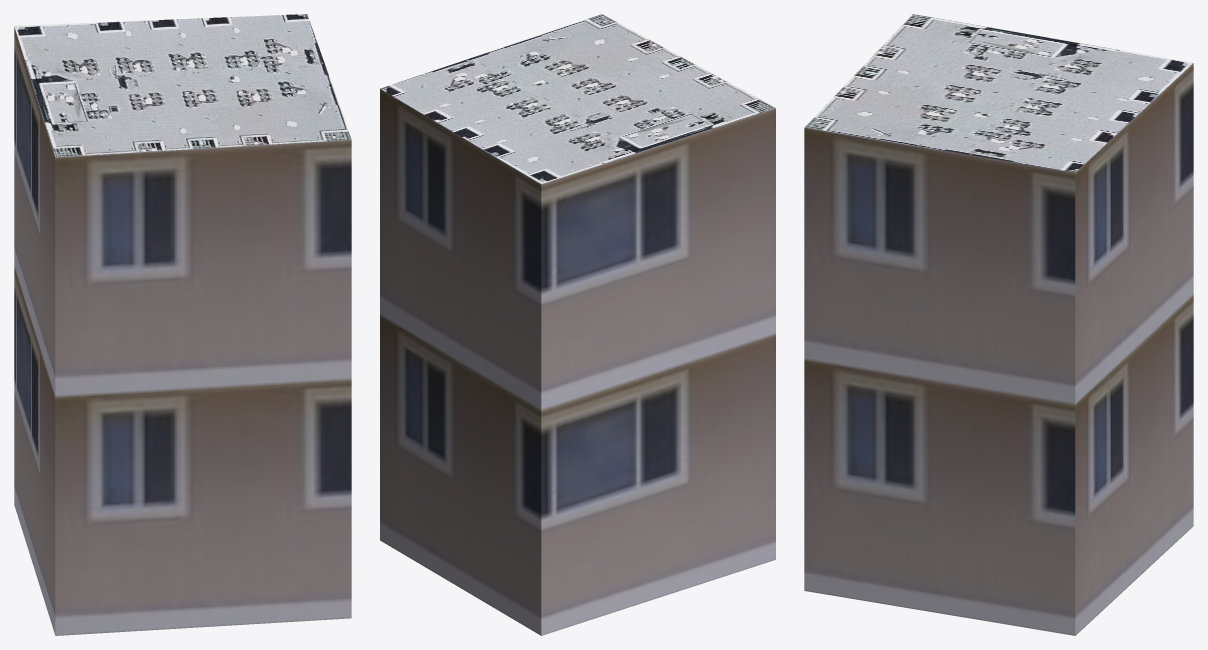
File: ResTex__2080.fbx
The picture shows the model from 3 angles, left to right: view 1: azimuth 30°, elevation 25°; view 2: azimuth 150°, elevation 25°; view 3: azimuth 270°, elevation 25°; orthographic projection. The views are drawn at different scales.
Parts seen in each view (by area): view 1: CityEngineMaterial_21_m, CityEngineMaterial_8_m; view 2: CityEngineMaterial_21_m, CityEngineMaterial_8_m; view 3: CityEngineMaterial_21_m, CityEngineMaterial_8_m.
Part boxes in pixels (x1=…): CityEngineMaterial_21_m: x1=14, y1=27, x2=351, y2=635; CityEngineMaterial_8_m: x1=14, y1=14, x2=351, y2=157; CityEngineMaterial_21_m: x1=380, y1=89, x2=775, y2=635; CityEngineMaterial_8_m: x1=380, y1=14, x2=775, y2=183; CityEngineMaterial_21_m: x1=804, y1=63, x2=1193, y2=635; CityEngineMaterial_8_m: x1=804, y1=14, x2=1192, y2=172.
Size of the model in its own units: 4.4 by 6 by 4.57.
Materials: 2 (2 with a texture image).
